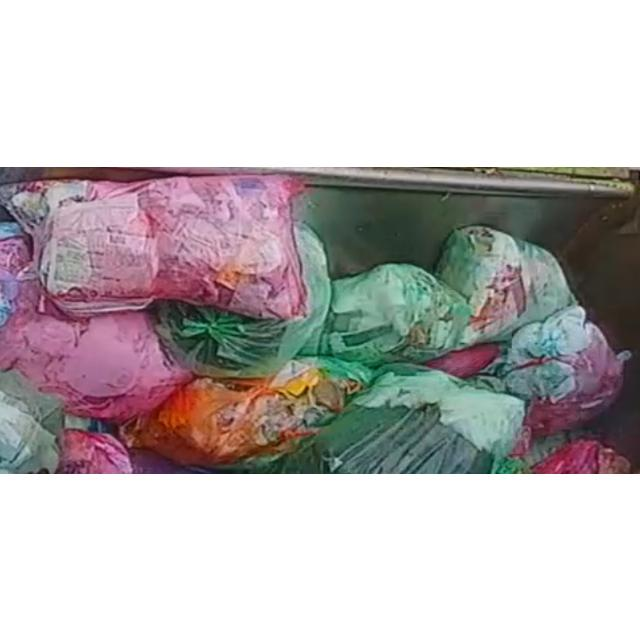general_trashbag: (152, 221, 331, 377), (318, 367, 525, 473), (436, 225, 576, 343), (320, 264, 471, 365)
other_trashbag: (0, 175, 306, 318), (0, 278, 192, 420), (525, 322, 624, 435), (58, 428, 132, 473)
